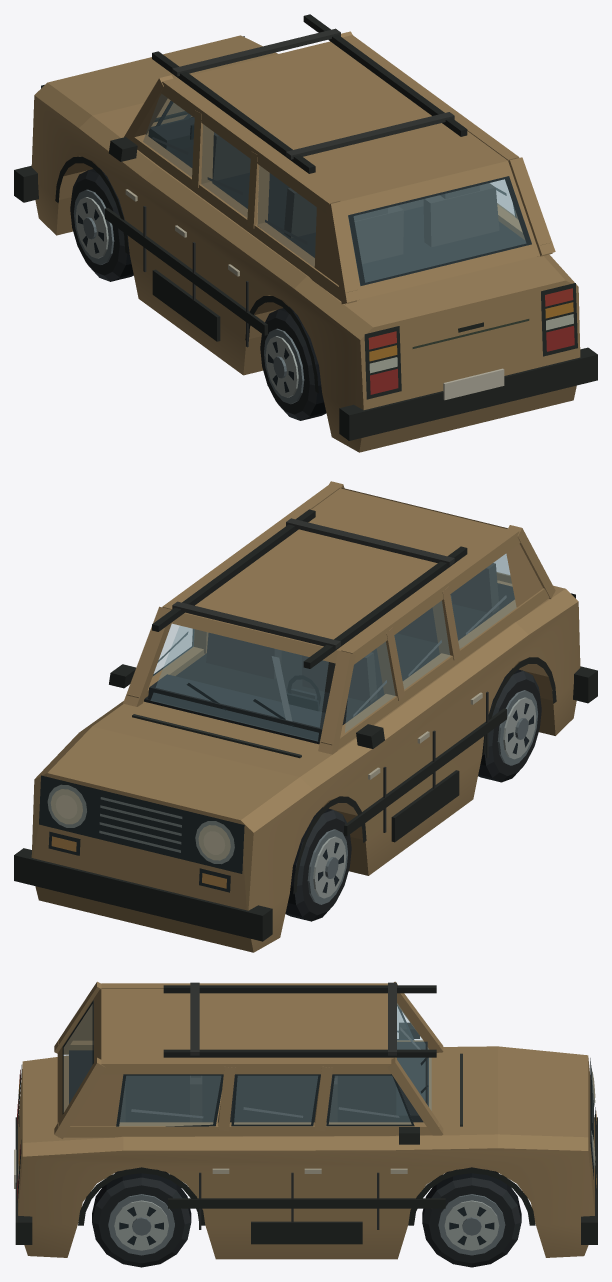
File: suv_sable.glb
The picture shows the model from 3 angles, top to bottom: view 1: azimuth 30°, elevation 25°; view 2: azimuth 150°, elevation 25°; view 3: azimuth 270°, elevation 25°; orthographic projection. The views are drawn at different scales.
Visible parts, largest first — view 1: proposition_suv_sable; view 2: proposition_suv_sable; view 3: proposition_suv_sable.
Part boxes in pixels (x1,y1,x2,y2): proposition_suv_sable: [14, 14, 597, 452]; proposition_suv_sable: [14, 481, 597, 952]; proposition_suv_sable: [14, 981, 597, 1267].
Size of the model in its own units: 2.04 by 1.72 by 4.49.
